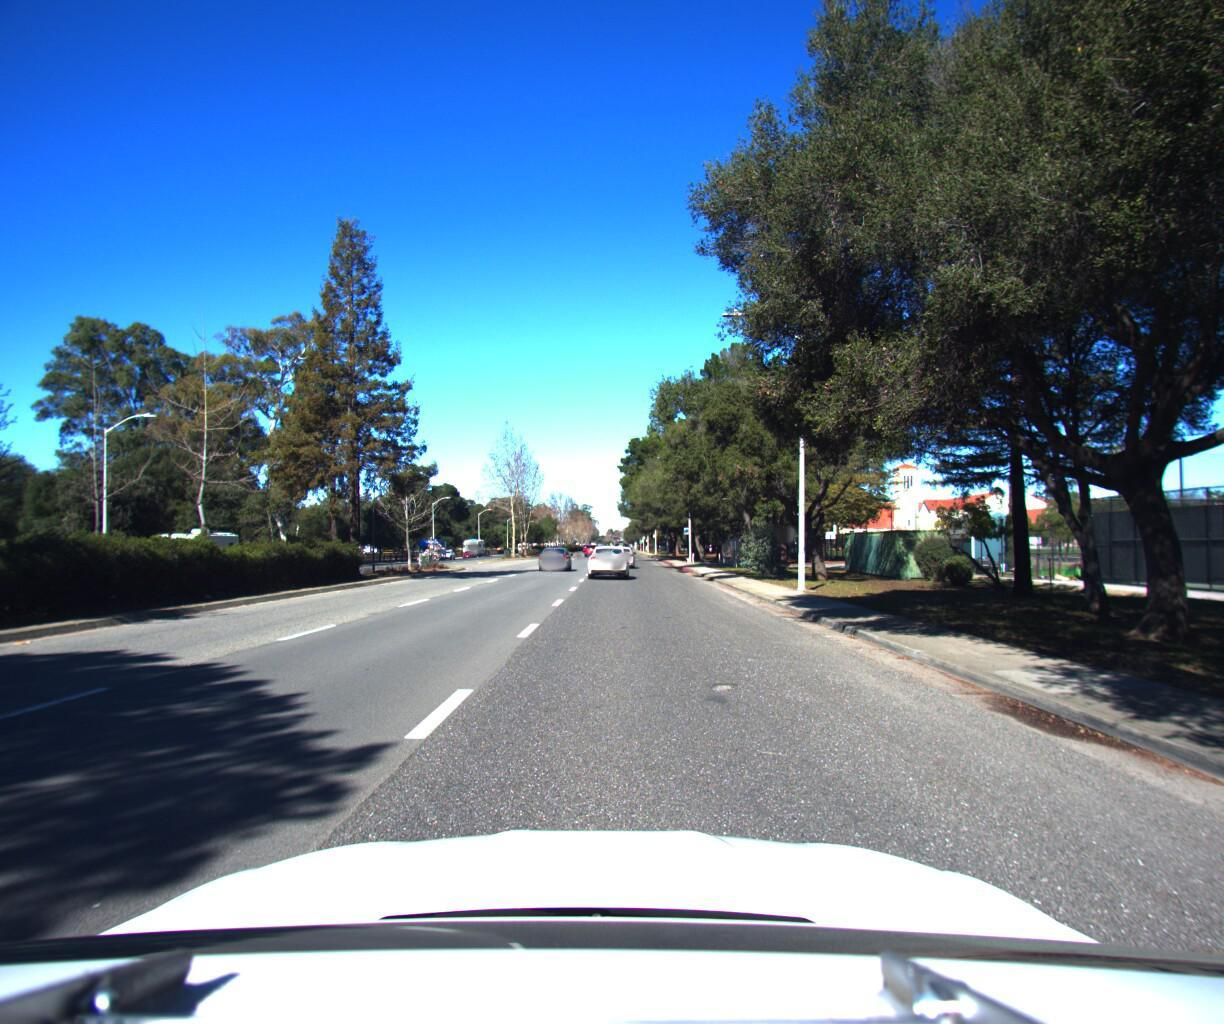car: (585, 536, 632, 571), (536, 536, 574, 563), (606, 535, 636, 561)
other_vehicle: (143, 516, 246, 573)
